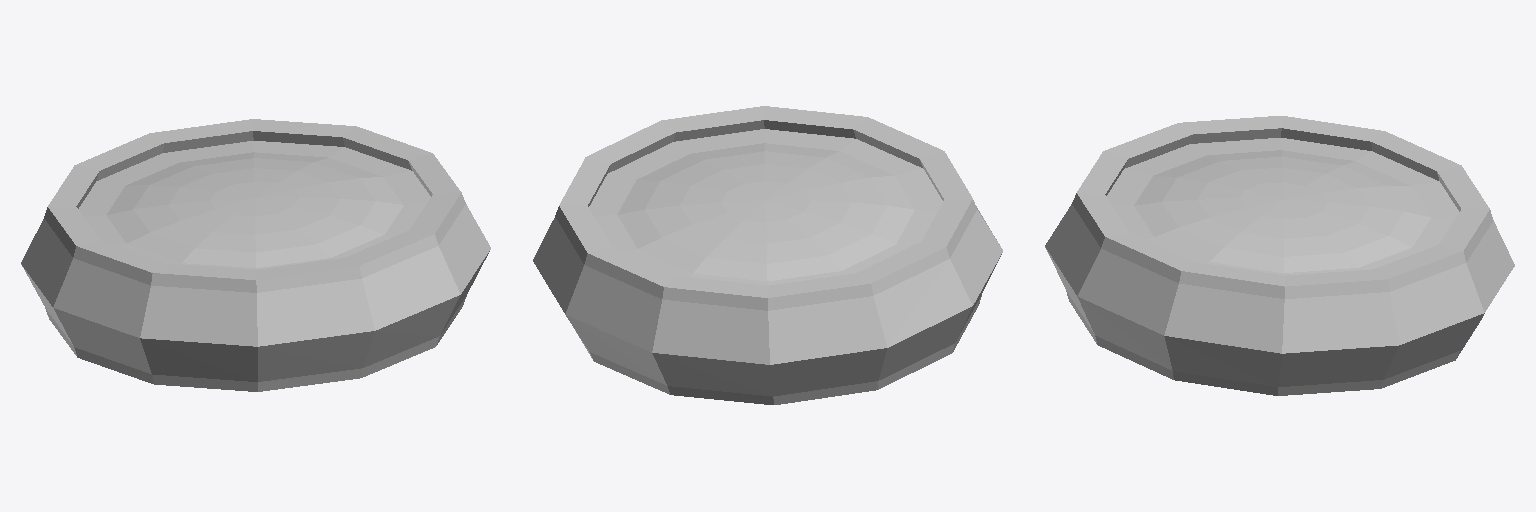
File: motorCarb01.obj
3 views of the same model, side by side, from view 1: azimuth 30°, elevation 25°; view 2: azimuth 150°, elevation 25°; view 3: azimuth 270°, elevation 25° (orthographic).
Visible parts, largest first — view 1: polySurface36 Merged_EVmotorCleaner45:group1; view 2: polySurface36 Merged_EVmotorCleaner45:group1; view 3: polySurface36 Merged_EVmotorCleaner45:group1.
Part boxes in pixels (x1,y1,x2,y2): polySurface36 Merged_EVmotorCleaner45:group1: (21,119,490,391); polySurface36 Merged_EVmotorCleaner45:group1: (533,106,1002,404); polySurface36 Merged_EVmotorCleaner45:group1: (1045,116,1514,395).
Size of the model in its own units: 1.01 by 0.3047 by 1.01.